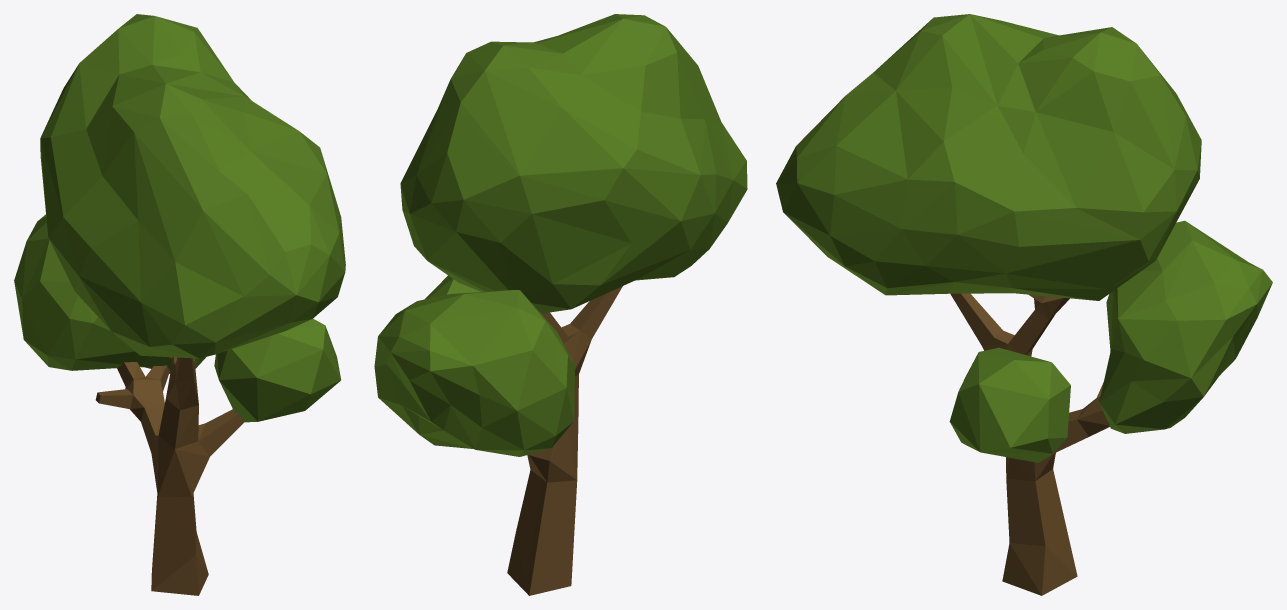
File: tree-02.glb
The picture shows the model from 3 angles, left to right: view 1: azimuth 30°, elevation 25°; view 2: azimuth 150°, elevation 25°; view 3: azimuth 270°, elevation 25°; orthographic projection. The views are drawn at different scales.
Parts seen in each view (by area): view 1: Tree1_1; view 2: Tree1_1; view 3: Tree1_1.
Boxes of the visible parts, x1,y1,x2,y2 form: Tree1_1: [14, 14, 345, 595]; Tree1_1: [374, 14, 747, 595]; Tree1_1: [776, 14, 1272, 595].
Bounding box in the file's own units: 6.73 × 12.47 × 10.19.
